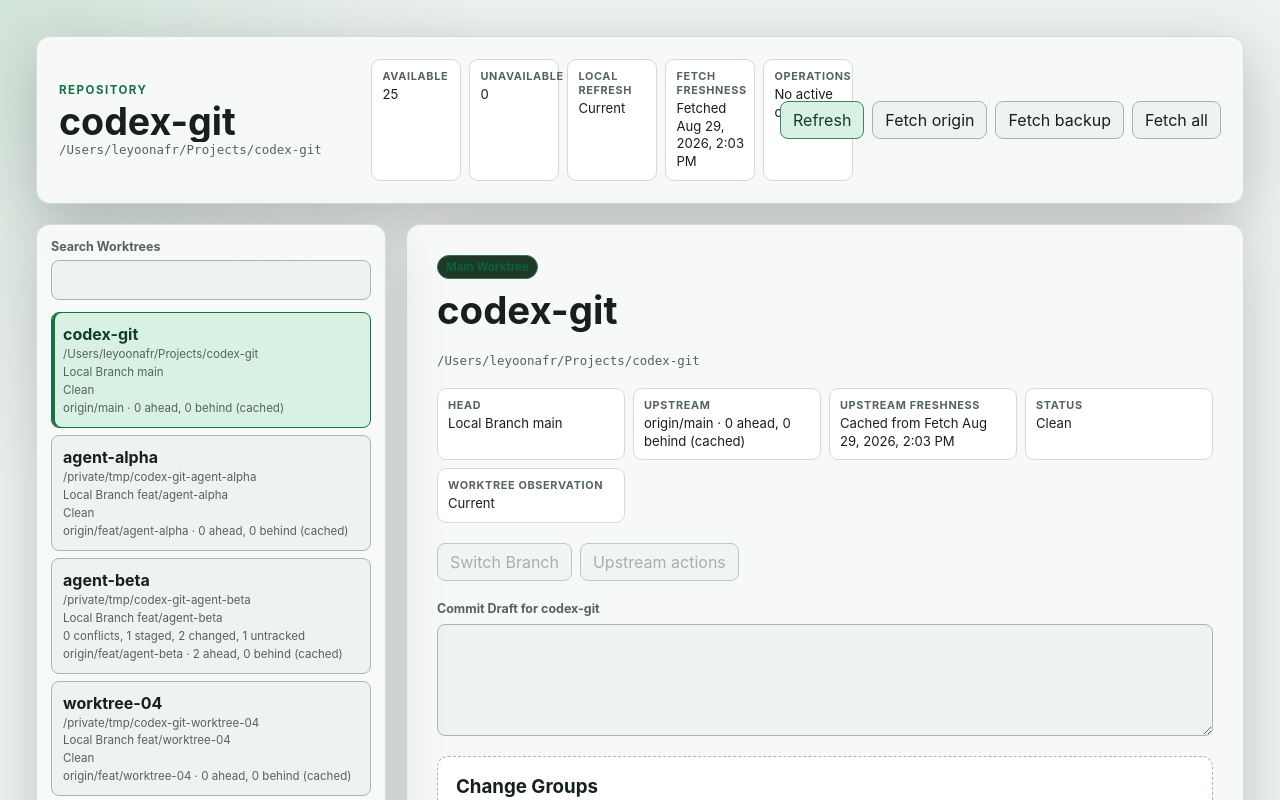
Scenario: Repository overview interactions › announces a Branch change without stealing focus from the Commit Draft
Click the button named "Select agent-alpha Worktree at /private/tmp/codex-git-agent-alpha" at (211, 493), box [51, 435, 371, 551]
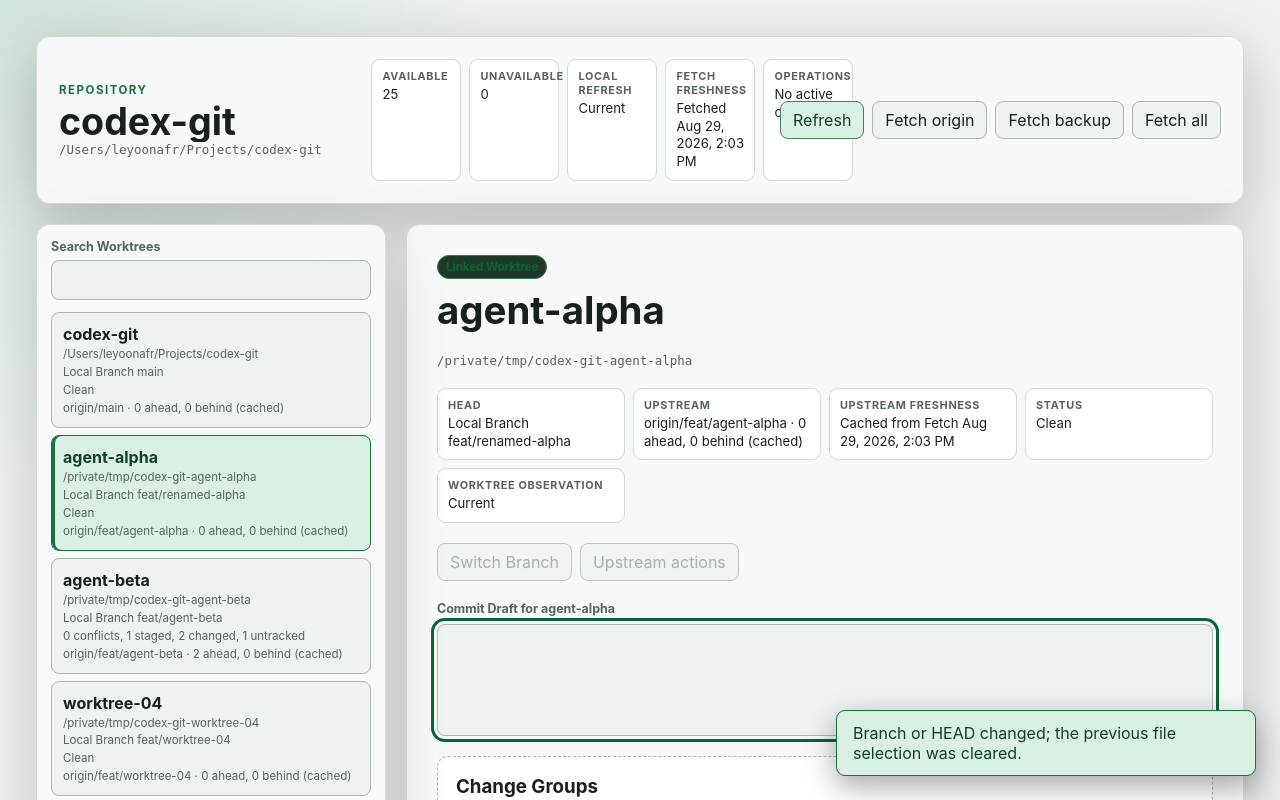
Check: the message "Branch or HEAD changed; the previous file selection was cleared." is shown, box [836, 710, 1256, 776]
